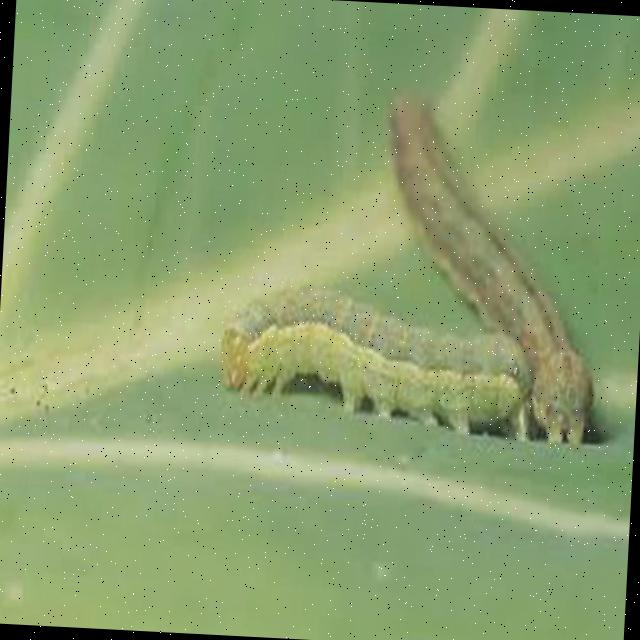worm: (366, 88, 614, 448), (217, 277, 545, 444)
